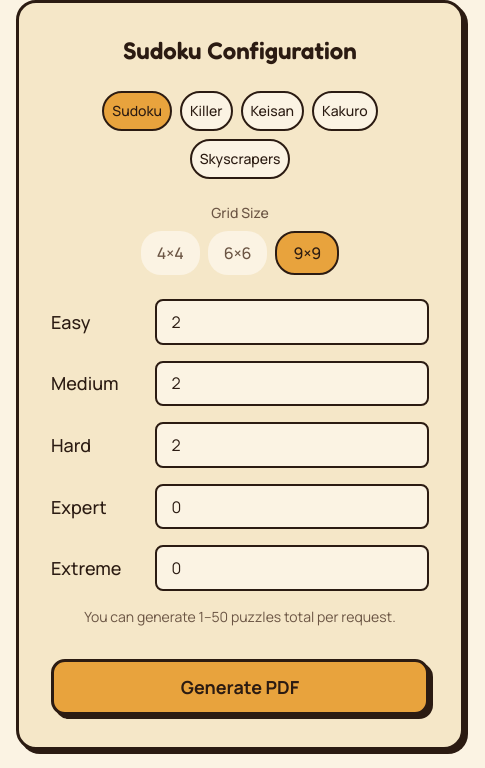
Test: PuzzleForm Component › displays an error message when the server rejects the request
This screenshot has width=485, height=768.
Click the button "Generate PDF". click: (240, 687)
box: x1=51 y1=659 x2=429 y2=715
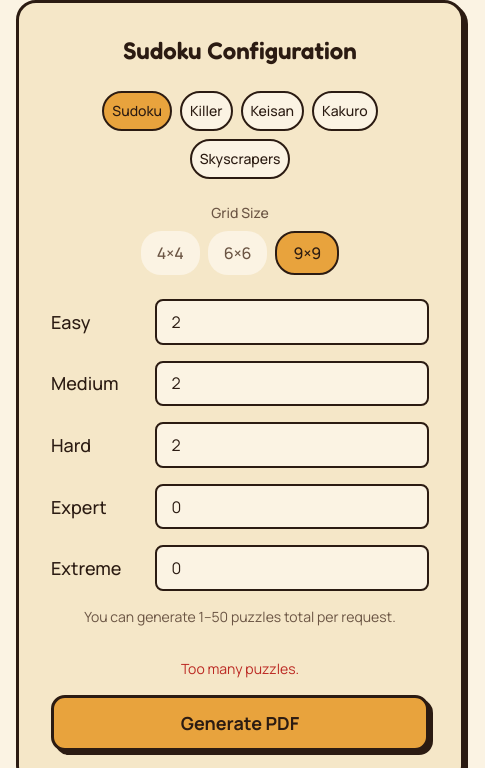
Result: the text "Too many puzzles." is shown at x1=181 y1=659 x2=299 y2=678
